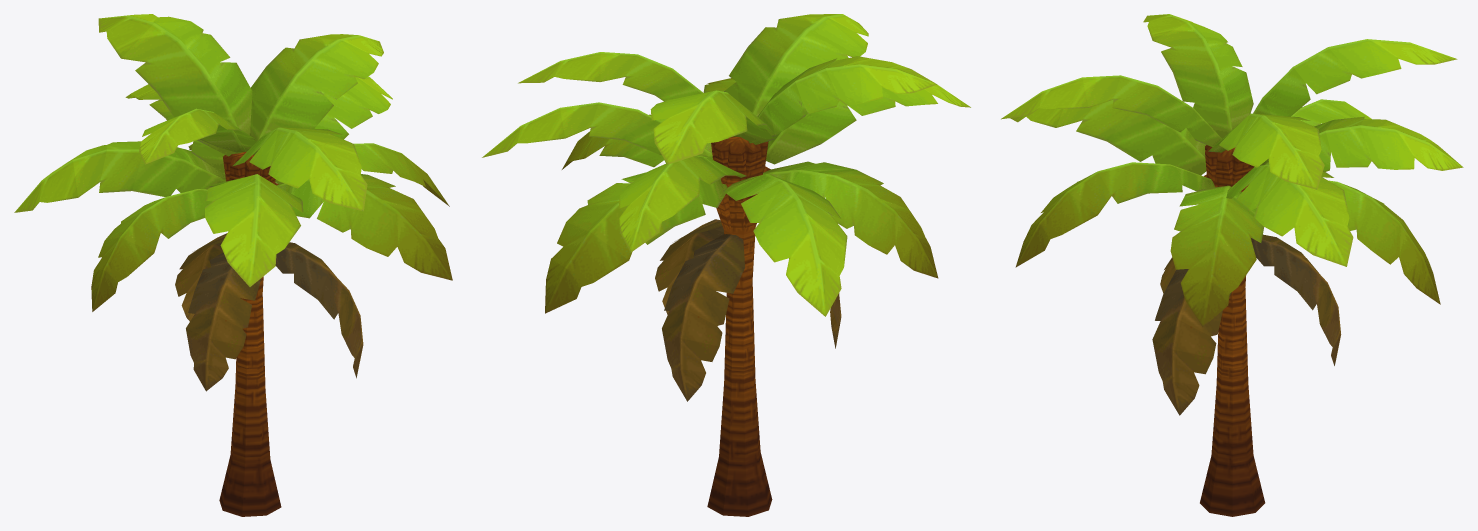
File: palmTree.glb
3 views of the same model, side by side, from view 1: azimuth 30°, elevation 25°; view 2: azimuth 150°, elevation 25°; view 3: azimuth 270°, elevation 25° (orthographic). The views are drawn at different scales.
Visible parts, largest first — view 1: coconut_tree_coconut_tree_mat_0; view 2: coconut_tree_coconut_tree_mat_0; view 3: coconut_tree_coconut_tree_mat_0.
Part boxes in pixels (x1,y1,x2,y2): coconut_tree_coconut_tree_mat_0: (14,14,452,516); coconut_tree_coconut_tree_mat_0: (482,14,970,516); coconut_tree_coconut_tree_mat_0: (1001,14,1463,516).
Bounding box in the file's own units: 4.35 × 5.01 × 4.69.
Materials: 1 (1 with a texture image).
